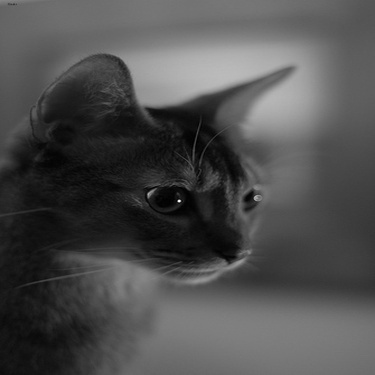cat: (7, 49, 301, 367)
